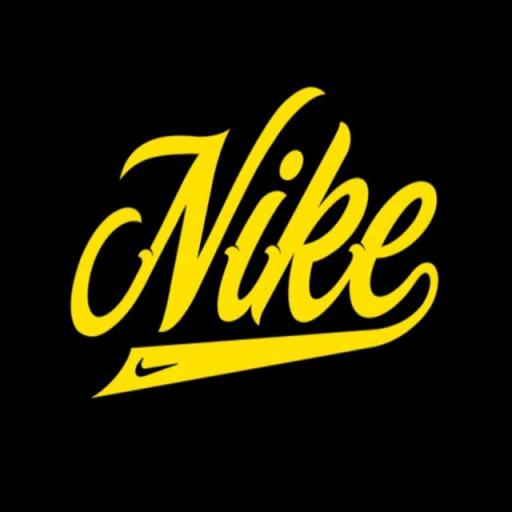Nike: (58, 39, 472, 402)
